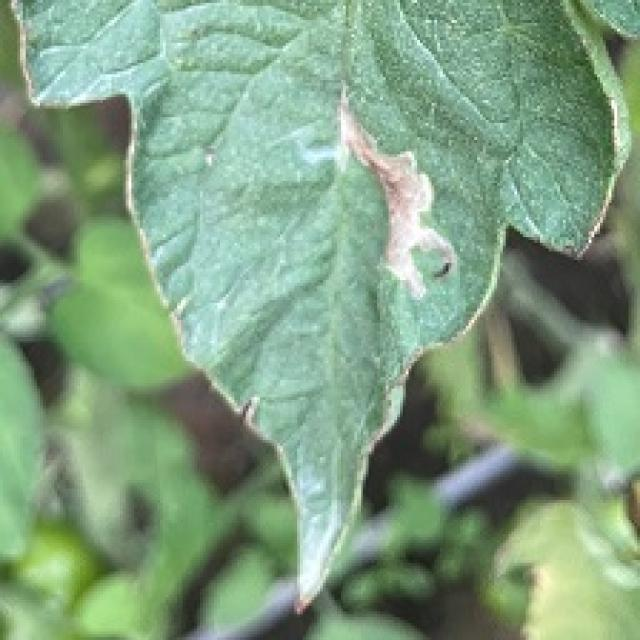Tuta absoluta: (326, 75, 465, 302)
